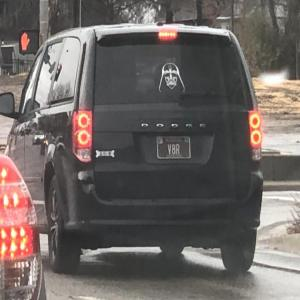Plate: (156, 136, 191, 159)
